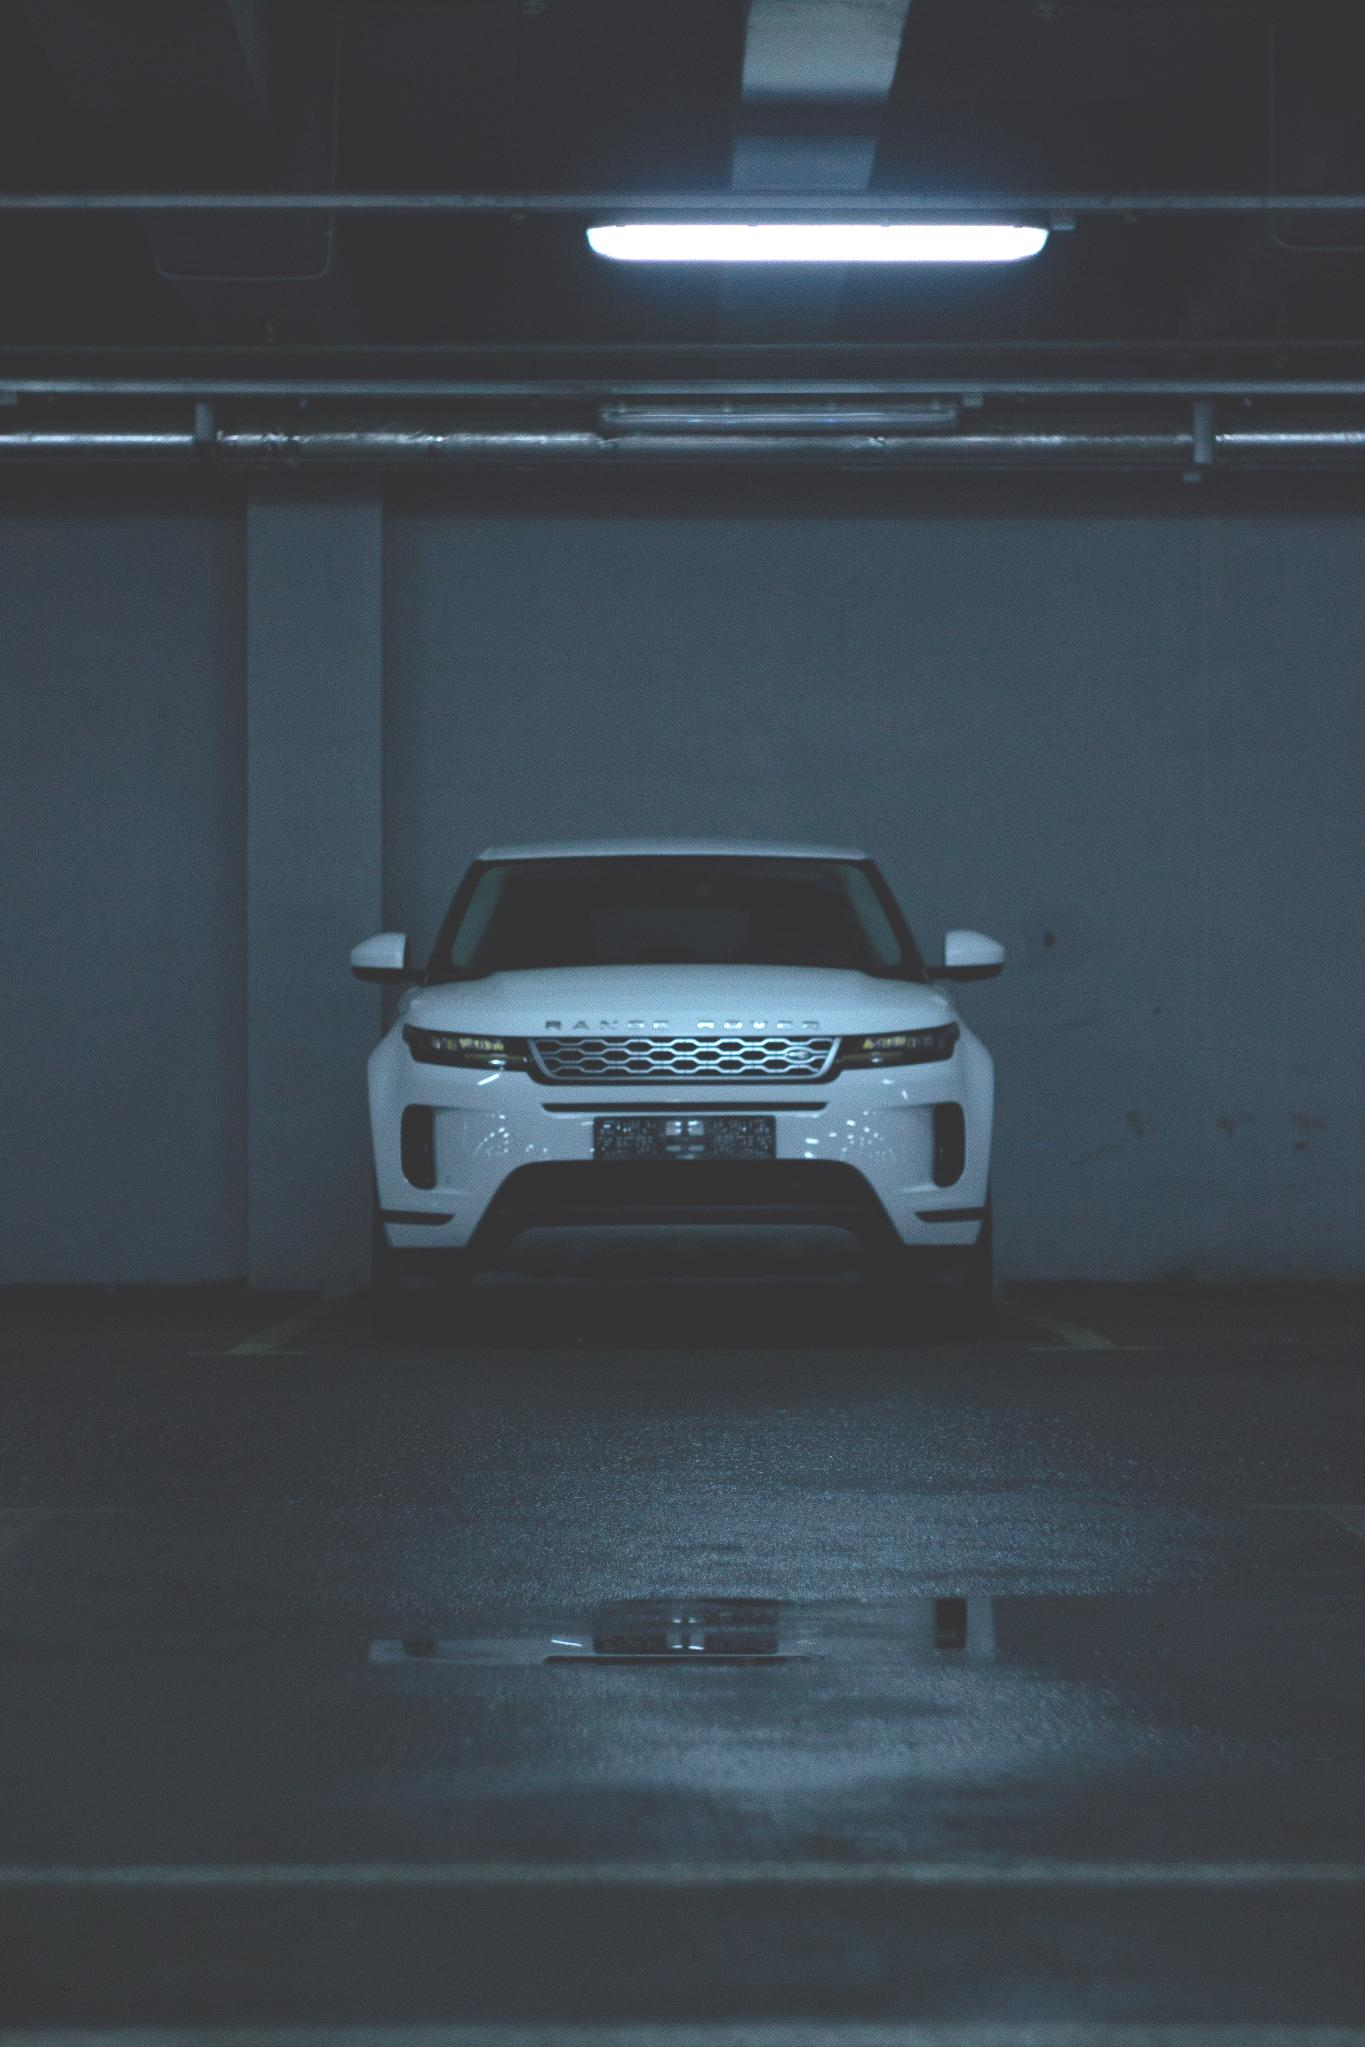range rover: (535, 1002, 836, 1052)
